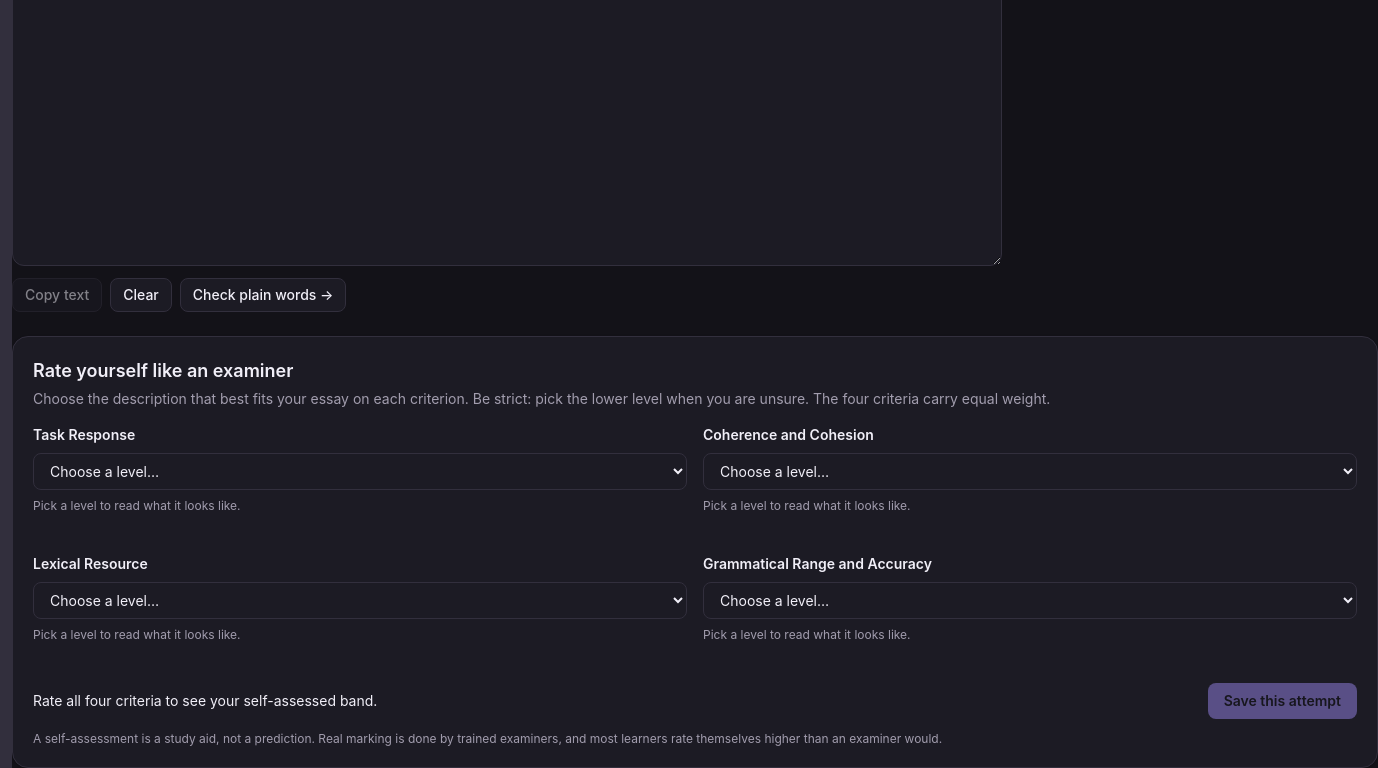
WritingLab › computes a self-assessed band only after all four criteria are rated
(page scrolled)
Expected: the text with test id "estimate" shows "Rate all four criteria", [33,692,377,709]
Select "Band 7" in the dropdown labelled "Task Response": (360,471) [33,453,687,490]
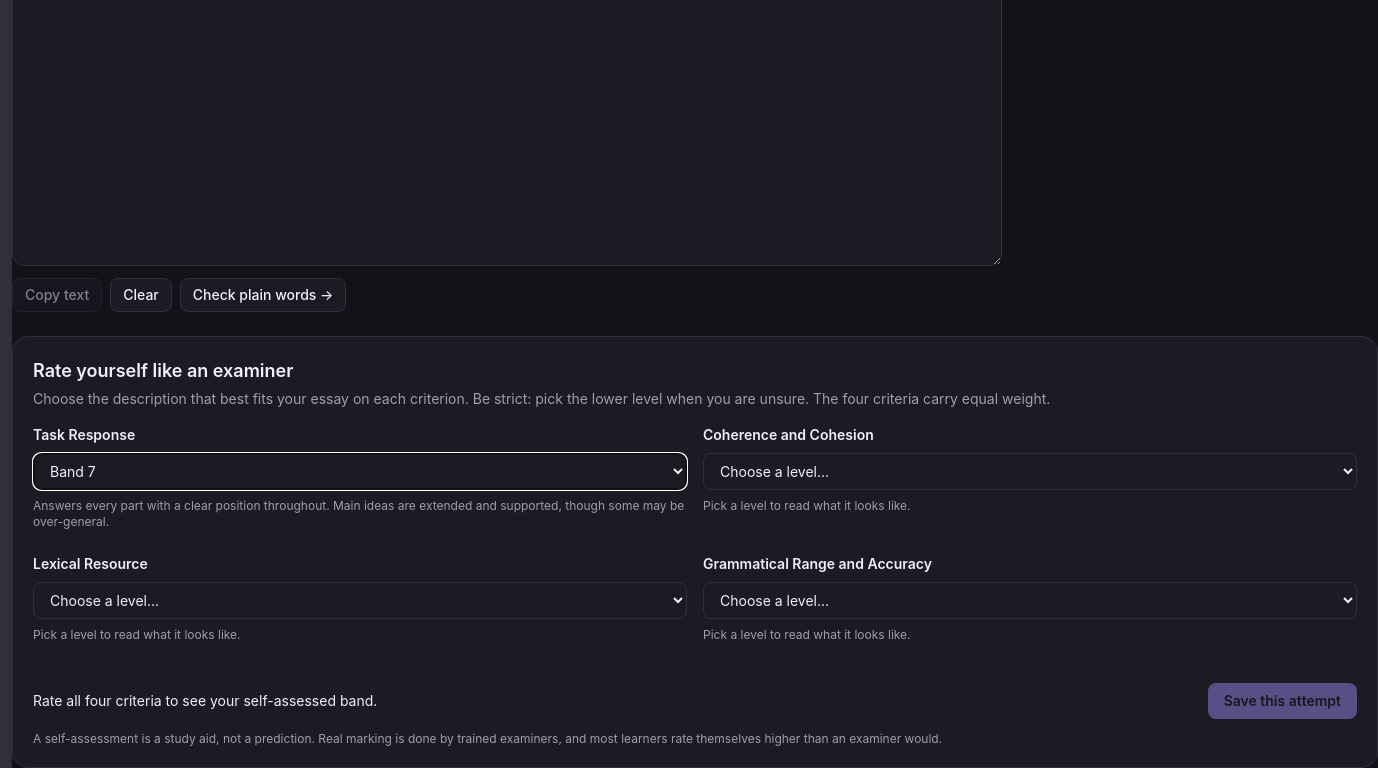
Select "Band 7" in the dropdown labelled "Coherence and Cohesion": (1030,471) [703,453,1357,490]
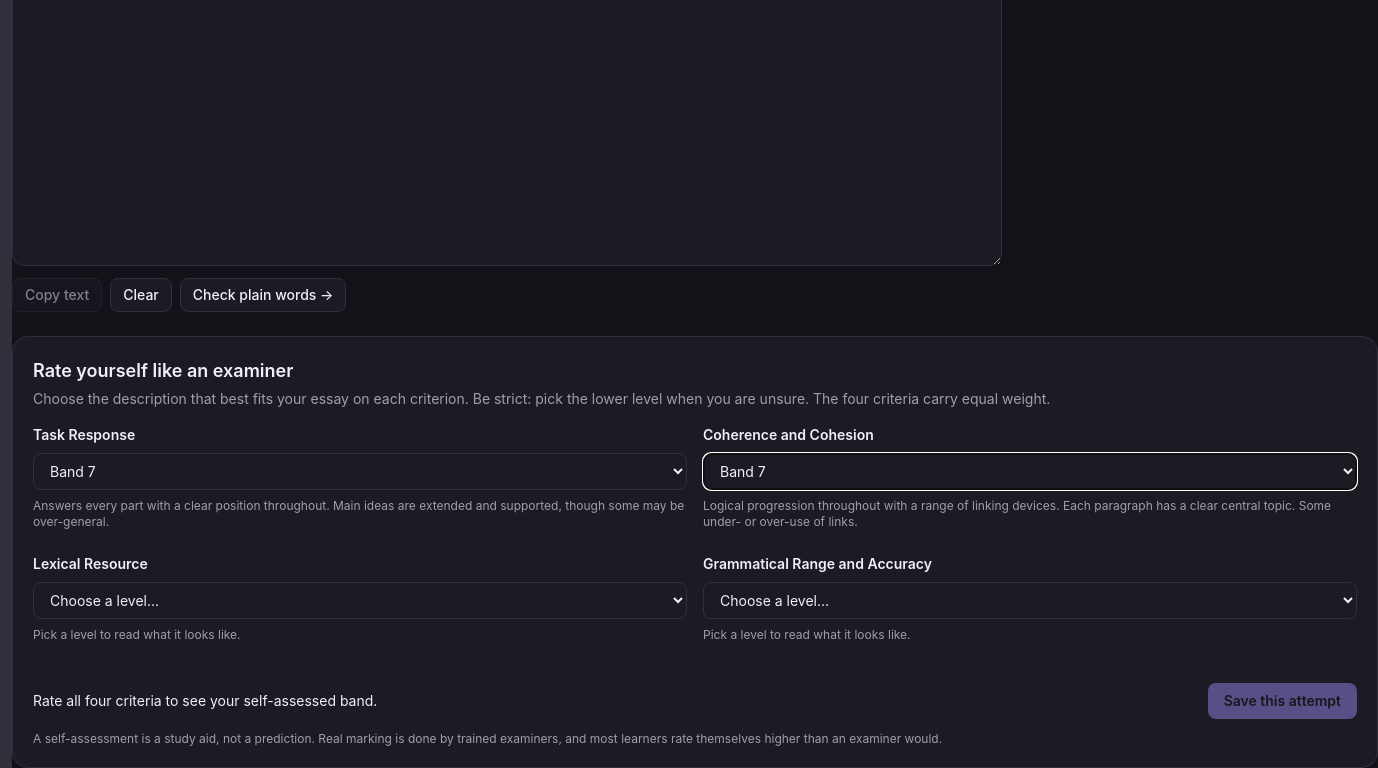
Select "Band 6" in the dropdown labelled "Lexical Resource": (360,600) [33,582,687,619]
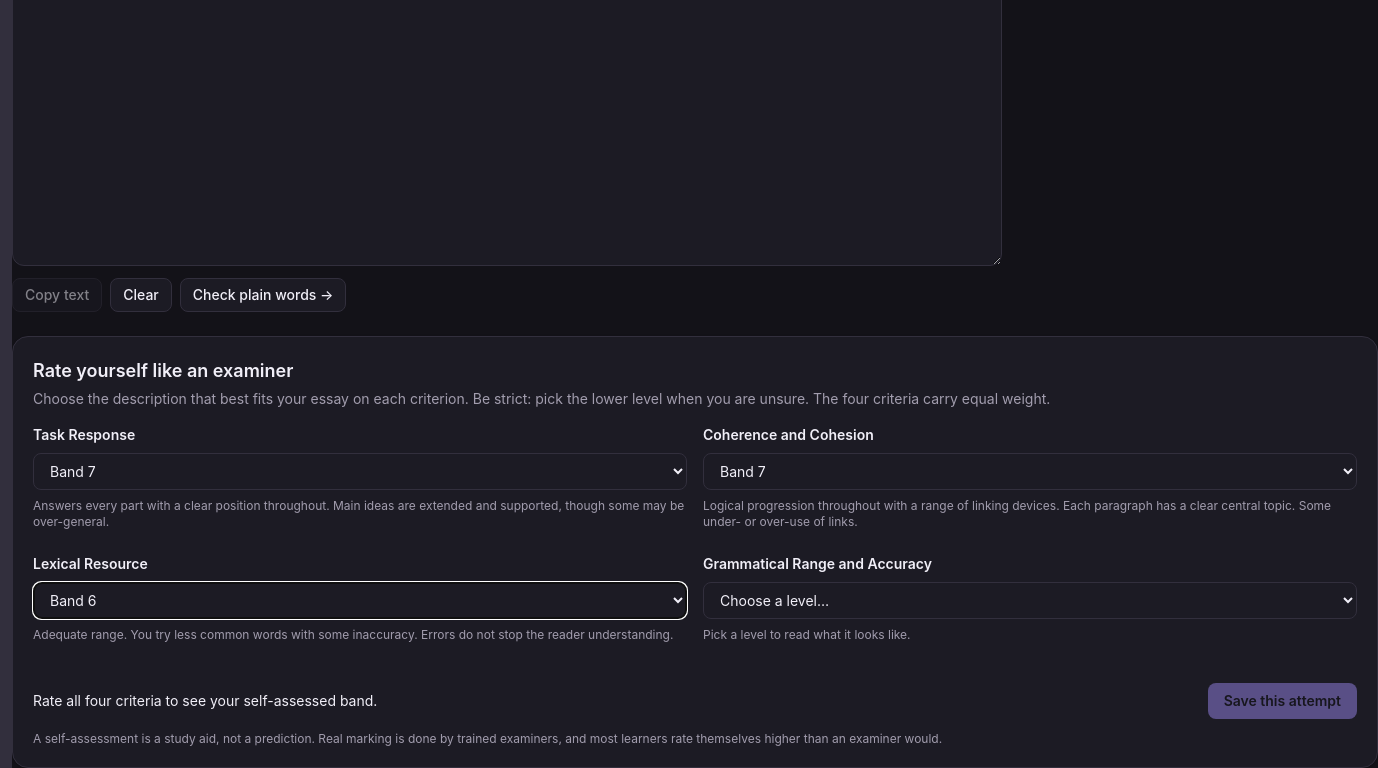
Select "Band 6" in the dropdown labelled "Grammatical Range and Accuracy": (1030,600) [703,582,1357,619]
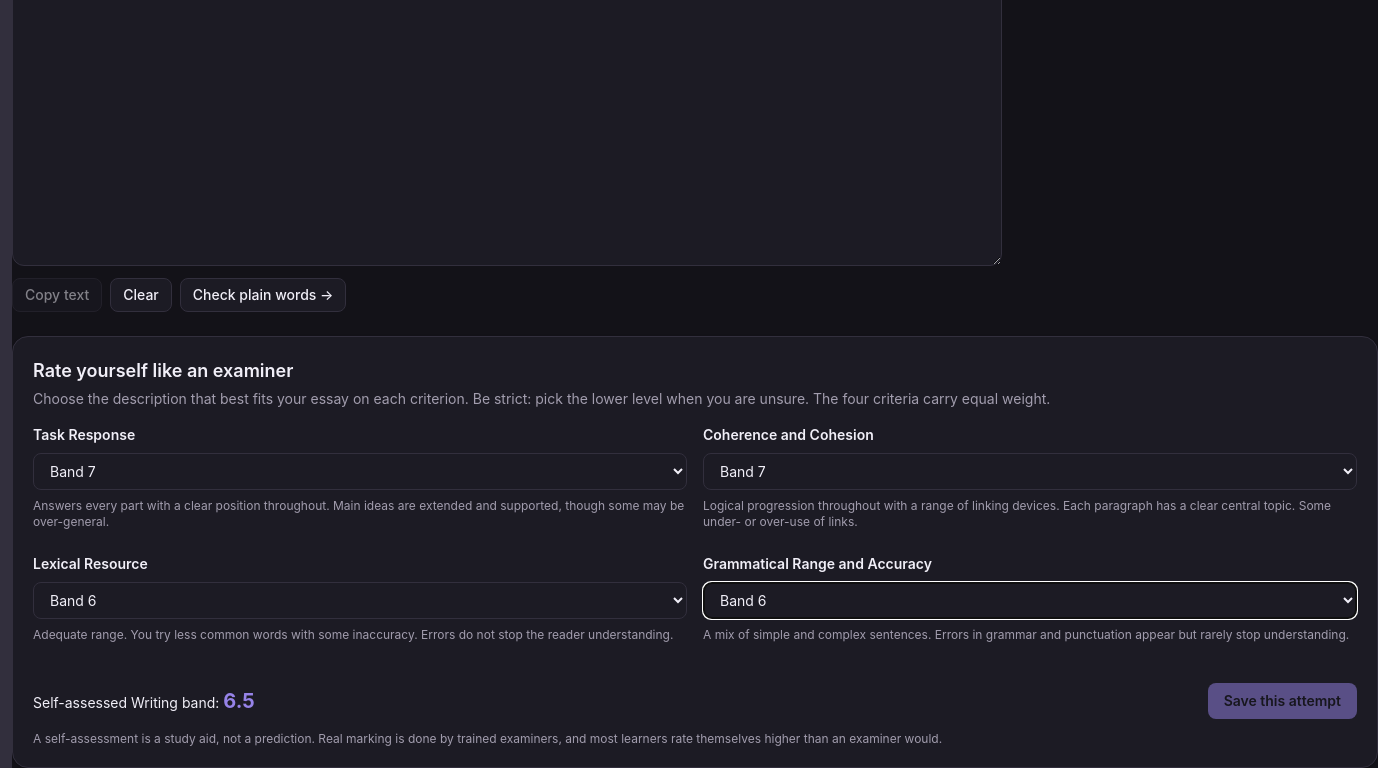
Expected: the element with test id "estimate" shows "6.5", [223,689,255,713]
